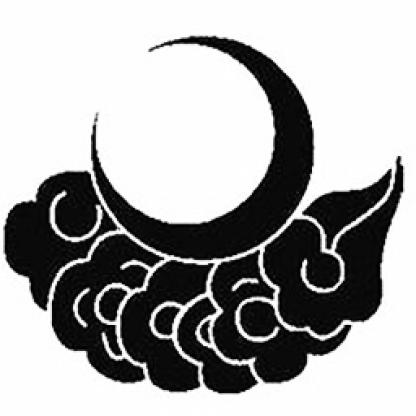kamon: (3, 34, 405, 397)
